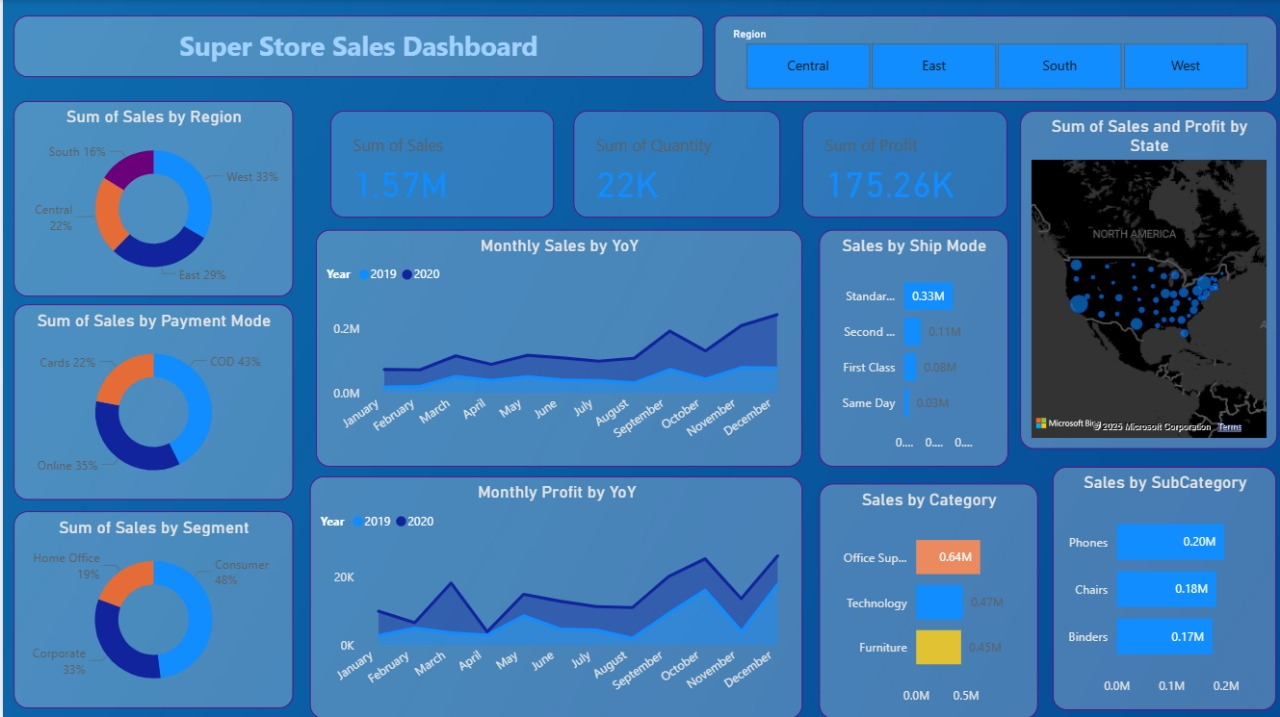

This screenshot's page, from the dashboard's own definition file:
{"tool":"powerbi","page":{"name":"Page 1","canvas":[1280,720],"ordinal":0},"visuals":[{"type":"clusteredBarChart","title":"Sales by Category","fields":{"Category":["SuperStore_Sales_Dataset.Category"],"Y":["Sum(SuperStore_Sales_Dataset.Sales)"]},"box":[817.8,484.4,219.6,236],"z":0},{"type":"clusteredBarChart","title":"Sales by SubCategory","fields":{"Y":["Sum(SuperStore_Sales_Dataset.Sales)"],"Category":["SuperStore_Sales_Dataset.Sub-Category"]},"box":[1052,468.1,224.4,243.7],"z":1000},{"type":"clusteredBarChart","title":"Sales by Ship Mode","fields":{"Y":["Sum(SuperStore_Sales_Dataset.Sales)"],"Category":["SuperStore_Sales_Dataset.Ship Mode"]},"box":[817.8,230.5,189.4,237.4],"z":2000},{"type":"stackedAreaChart","title":"Monthly Sales by YoY","fields":{"Y":["Sum(SuperStore_Sales_Dataset.Sales)"],"Category":["SuperStore_Sales_Dataset.Order Date.Variation.Date Hierarchy.Month","SuperStore_Sales_Dataset.Order Date.Variation.Date Hierarchy.Day"],"Series":["SuperStore_Sales_Dataset.Order Date.Variation.Date Hierarchy.Year"]},"box":[314.2,230.5,487.1,237.4],"z":3000},{"type":"map","title":"Sum of Sales and Profit by State","fields":{"Category":["SuperStore_Sales_Dataset.State"],"Size":["Sum(SuperStore_Sales_Dataset.Sales)"]},"box":[1019.6,111.1,258,338.9],"z":4000},{"type":"stackedAreaChart","title":"Monthly Profit by YoY","fields":{"Category":["SuperStore_Sales_Dataset.Order Date.Variation.Date Hierarchy.Month","SuperStore_Sales_Dataset.Order Date.Variation.Date Hierarchy.Day"],"Series":["SuperStore_Sales_Dataset.Order Date.Variation.Date Hierarchy.Year"],"Y":["Sum(SuperStore_Sales_Dataset.Profit)"]},"box":[307.4,477.5,494,242.9],"z":5000},{"type":"donutChart","fields":{"Category":["SuperStore_Sales_Dataset.Segment"],"Y":["Sum(SuperStore_Sales_Dataset.Sales)"]},"box":[11,513.2,279.9,197.6],"z":6000},{"type":"donutChart","fields":{"Category":["SuperStore_Sales_Dataset.Payment Mode"],"Y":["Sum(SuperStore_Sales_Dataset.Sales)"]},"box":[11,304.6,279.9,196.2],"z":7000},{"type":"slicer","fields":{"Values":["SuperStore_Sales_Dataset.Region"]},"box":[713.6,15.1,564,86.4],"z":8000},{"type":"textbox","box":[11,15.1,691.6,61.7],"z":9000},{"type":"cardVisual","title":"Sales","fields":{"Data":["Sum(SuperStore_Sales_Dataset.Sales)"]},"box":[328,111.1,223.7,107],"z":10000},{"type":"cardVisual","title":"Sales","fields":{"Data":["Sum(SuperStore_Sales_Dataset.Quantity)"]},"box":[572.2,111.1,207.2,107],"z":11000},{"type":"cardVisual","title":"Sales","fields":{"Data":["Sum(SuperStore_Sales_Dataset.Profit)"]},"box":[801.4,111.1,205.8,107],"z":12000},{"type":"donutChart","fields":{"Category":["SuperStore_Sales_Dataset.Region"],"Y":["Sum(SuperStore_Sales_Dataset.Sales)"]},"box":[11,101.5,279.9,196.2],"z":13000}]}

Visuals, with their boxes in screenshot pixels (x1, y1, x2, y2), scaled from the page's 1280x720 canvas onto the 1280x717 screenshot:
"Sales by Category" clusteredBarChart: box=[818, 482, 1037, 716]
"Sales by SubCategory" clusteredBarChart: box=[1052, 466, 1276, 709]
"Sales by Ship Mode" clusteredBarChart: box=[818, 230, 1007, 466]
"Monthly Sales by YoY" stackedAreaChart: box=[314, 230, 801, 466]
"Sum of Sales and Profit by State" map: box=[1020, 111, 1278, 448]
"Monthly Profit by YoY" stackedAreaChart: box=[307, 476, 801, 716]
donutChart - SuperStore_Sales_Dataset.Segment x Sum(SuperStore_Sales_Dataset.Sales): box=[11, 511, 291, 708]
donutChart - SuperStore_Sales_Dataset.Payment Mode x Sum(SuperStore_Sales_Dataset.Sales): box=[11, 303, 291, 499]
slicer - SuperStore_Sales_Dataset.Region: box=[714, 15, 1278, 101]
textbox: box=[11, 15, 703, 76]
"Sales" cardVisual: box=[328, 111, 552, 217]
"Sales" cardVisual: box=[572, 111, 779, 217]
"Sales" cardVisual: box=[801, 111, 1007, 217]
donutChart - SuperStore_Sales_Dataset.Region x Sum(SuperStore_Sales_Dataset.Sales): box=[11, 101, 291, 296]
